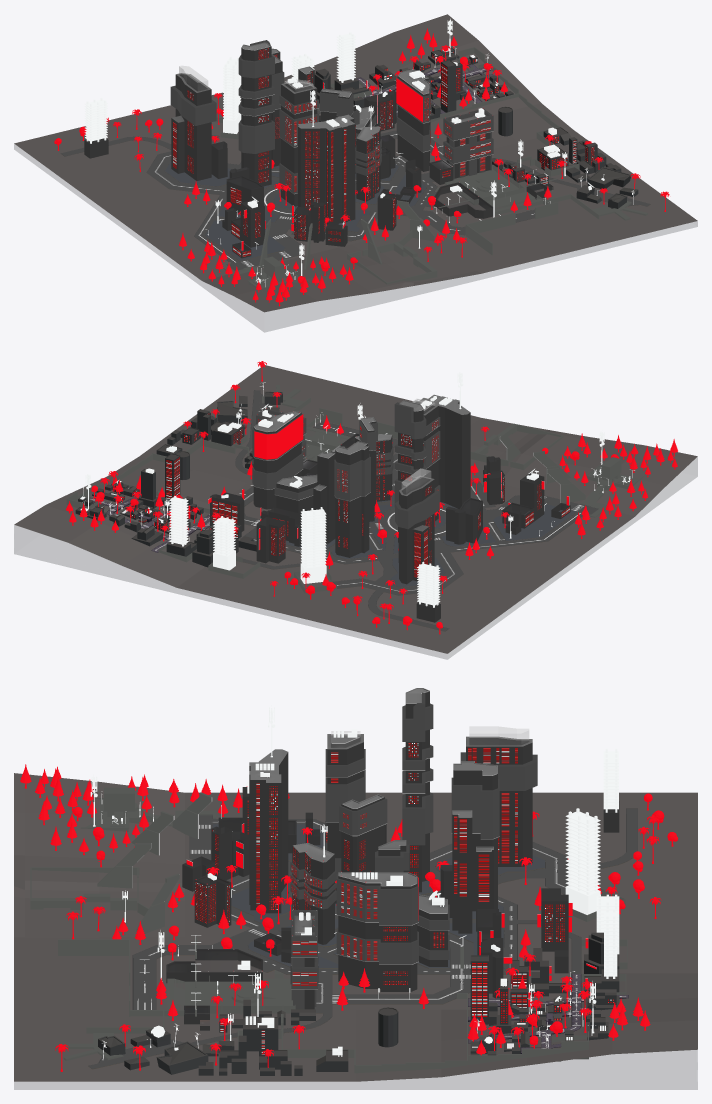
The picture shows the model from 3 angles, top to bottom: view 1: azimuth 30°, elevation 25°; view 2: azimuth 150°, elevation 25°; view 3: azimuth 270°, elevation 25°; orthographic projection. The views are drawn at different scales.
Parts seen in each view (by area): view 1: Terrain, Buildings_0, Buildings_0_1, Buildings_1, Buildings_adds, Streets, Trees_Terrain, Terrain_base, Buildings_Windows, Buildings_2, Buildings_3, Buildings_2_top (+8 smaller); view 2: Terrain, Buildings_0, Buildings_1, Streets, Buildings_adds, Buildings_0_1, Terrain_base, Trees_Terrain, Buildings_2, Buildings_3, Buildings_Windows, Buildings_2_top (+7 smaller); view 3: Terrain, Buildings_0, Buildings_0_1, Buildings_adds, Streets, Buildings_1, Trees_Terrain, Terrain_base, Buildings_2, Buildings_Windows, Buildings_2_top, Buildings_3 (+9 smaller).
Boxes of the visible parts, bbox=[...] form: Terrain: bbox=[14, 14, 697, 312]; Buildings_0: bbox=[171, 42, 490, 224]; Buildings_0_1: bbox=[170, 40, 493, 193]; Buildings_1: bbox=[84, 90, 553, 258]; Buildings_adds: bbox=[213, 47, 647, 291]; Streets: bbox=[61, 110, 650, 270]; Trees_Terrain: bbox=[54, 28, 669, 306]; Terrain_base: bbox=[14, 144, 697, 332]; Buildings_Windows: bbox=[173, 48, 594, 256]; Buildings_2: bbox=[314, 50, 638, 208]; Buildings_3: bbox=[84, 32, 355, 143]; Buildings_2_top: bbox=[314, 47, 637, 202]; Terrain: bbox=[14, 365, 697, 653]; Buildings_0: bbox=[253, 395, 470, 584]; Buildings_1: bbox=[210, 433, 570, 622]; Streets: bbox=[235, 390, 598, 631]; Buildings_adds: bbox=[66, 385, 644, 593]; Buildings_0_1: bbox=[252, 402, 440, 529]; Terrain_base: bbox=[14, 457, 697, 659]; Trees_Terrain: bbox=[66, 361, 677, 634]; Buildings_2: bbox=[75, 392, 282, 567]; Buildings_3: bbox=[169, 496, 440, 607]; Buildings_Windows: bbox=[100, 413, 569, 577]; Buildings_2_top: bbox=[76, 391, 282, 556]; Terrain: bbox=[14, 773, 697, 1081]; Buildings_0: bbox=[249, 688, 532, 1009]; Buildings_0_1: bbox=[290, 692, 537, 1009]; Buildings_adds: bbox=[30, 787, 627, 1073]; Streets: bbox=[88, 808, 637, 1069]; Buildings_1: bbox=[166, 787, 619, 1030]; Trees_Terrain: bbox=[20, 764, 678, 1071]; Terrain_base: bbox=[14, 1050, 697, 1089]; Buildings_2: bbox=[98, 934, 619, 1075]; Buildings_Windows: bbox=[195, 743, 613, 1054]; Buildings_2_top: bbox=[98, 932, 619, 1071]; Buildings_3: bbox=[565, 748, 619, 978].
Size of the model in its own units: 1000 by 320 by 1000.
Materials: 29 (7 with a texture image).
